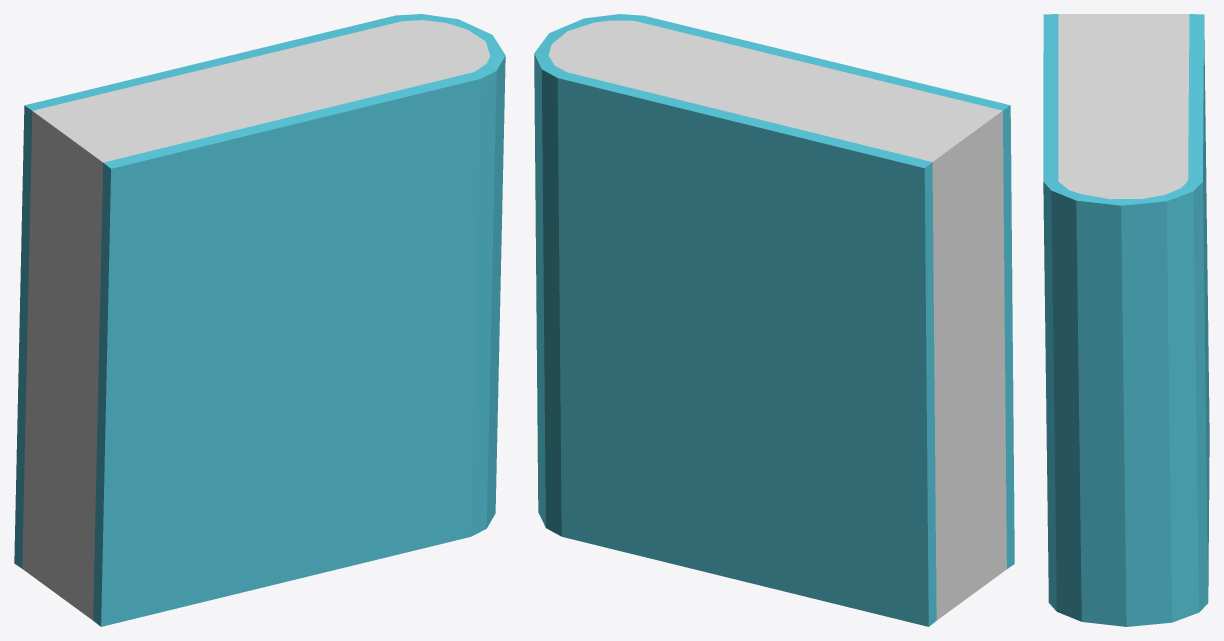
The model's file is libro_cerrado.glb.
3 renders of one model, left to right at view 1: azimuth 30°, elevation 25°; view 2: azimuth 150°, elevation 25°; view 3: azimuth 270°, elevation 25°, orthographic. The views are drawn at different scales.
Parts seen in each view (by area): view 1: cubierta, papel; view 2: cubierta, papel; view 3: cubierta, papel.
Boxes of the visible parts, x1,y1,x2,y2 form: cubierta: (14, 14, 505, 626); papel: (22, 20, 490, 620); cubierta: (534, 14, 1014, 626); papel: (548, 20, 1006, 620); cubierta: (1043, 14, 1209, 626); papel: (1058, 14, 1189, 199).
Bounding box in the file's own units: 0.5387 × 0.5493 × 0.1947.
